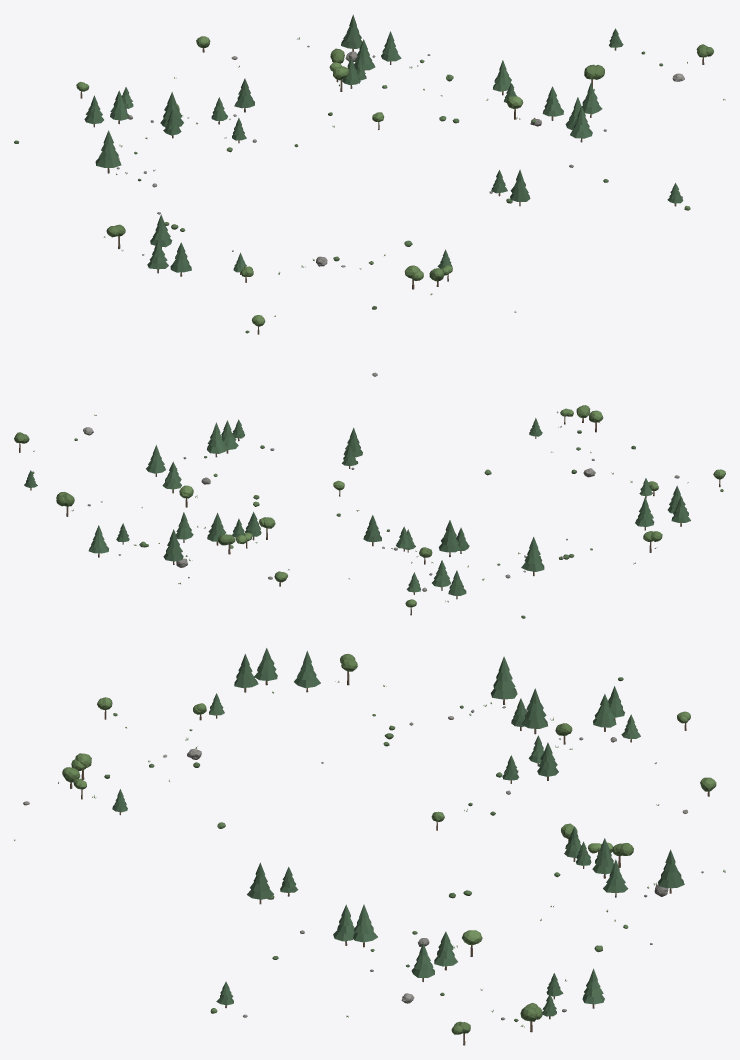
The model's file is arch_land_scatter_c18_18.glb.
The picture shows the model from 3 angles, top to bottom: view 1: azimuth 30°, elevation 25°; view 2: azimuth 150°, elevation 25°; view 3: azimuth 270°, elevation 25°; orthographic projection. The views are drawn at different scales.
Visible parts, largest first — view 1: arch_land_scatter_c18_18; view 2: arch_land_scatter_c18_18; view 3: arch_land_scatter_c18_18.
Part boxes in pixels (x1,y1,x2,y2): arch_land_scatter_c18_18: (14,14,725,376); arch_land_scatter_c18_18: (14,405,725,618); arch_land_scatter_c18_18: (14,648,725,1045).
Size of the model in its own units: 261 by 43.64 by 218.
